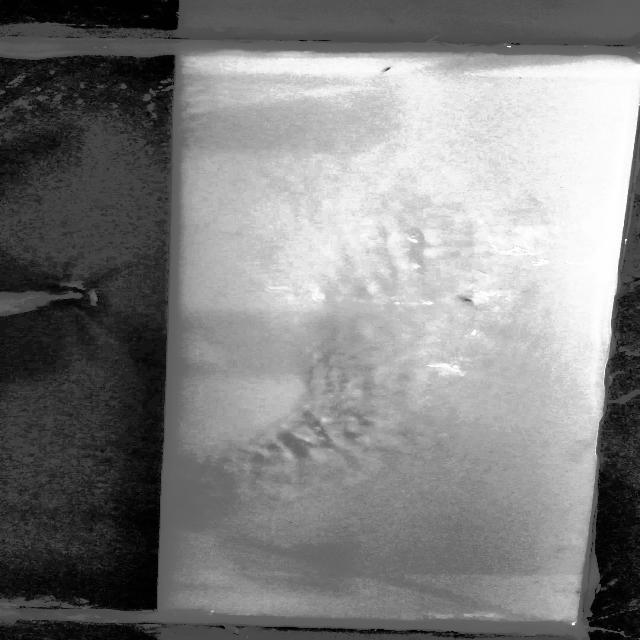shrimp: (454, 294, 480, 305), (377, 65, 396, 74)
